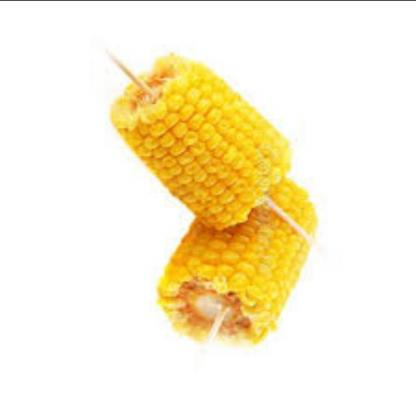corn: (146, 160, 332, 364), (106, 53, 289, 215)
